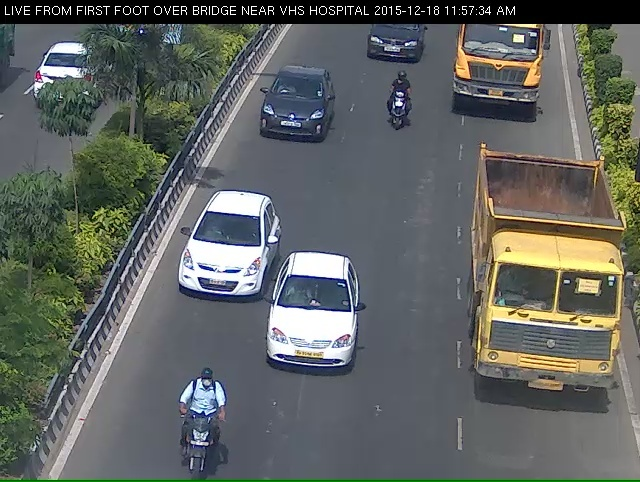Bus: (465, 156, 625, 420), (449, 22, 547, 121)
Car: (165, 205, 252, 329), (269, 273, 353, 392), (254, 73, 335, 166), (357, 18, 425, 67)
Person: (381, 89, 417, 142)
